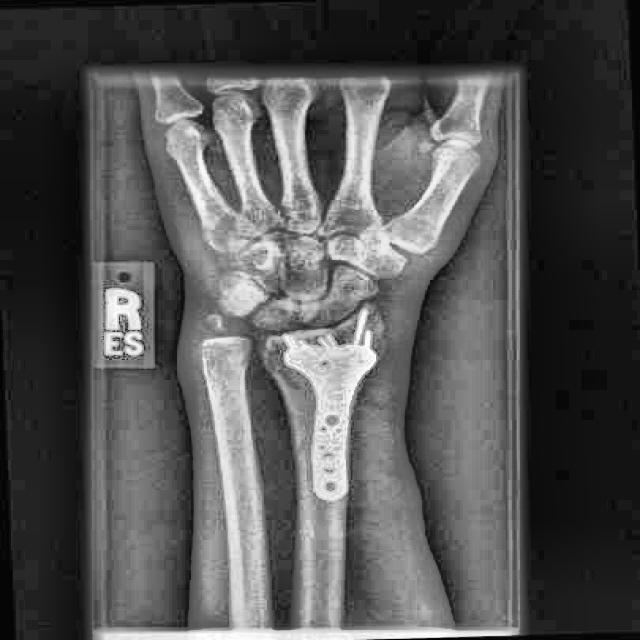fingers positive: (250, 328, 339, 404), (318, 287, 409, 357)
